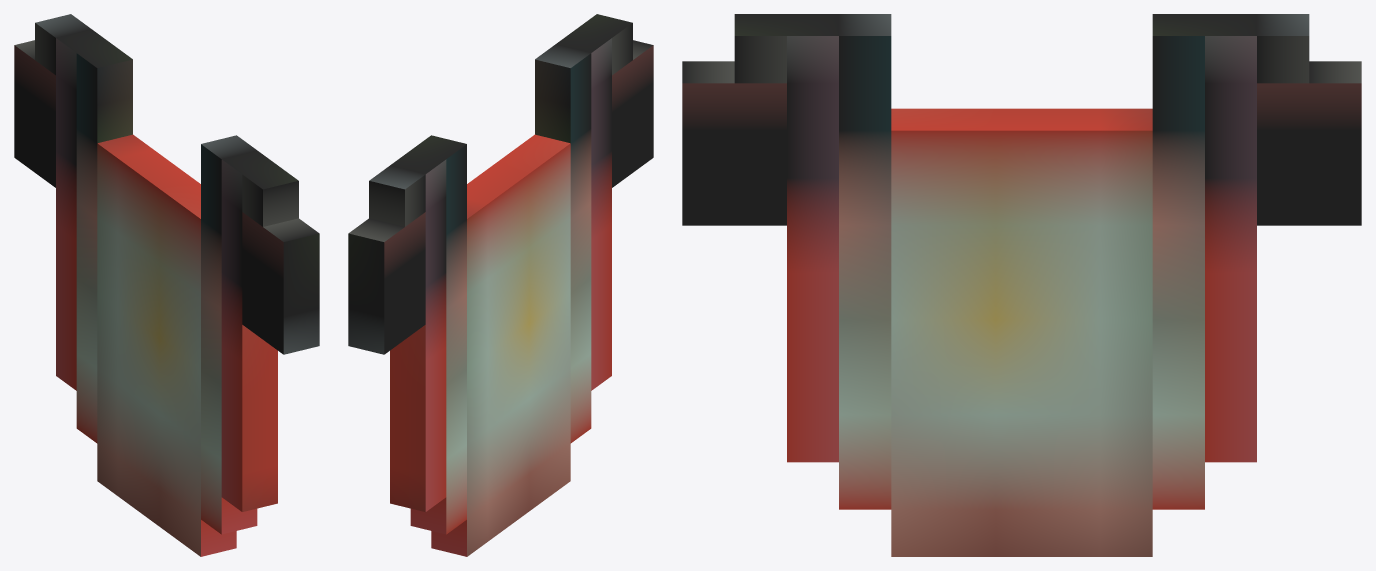
The model's file is ClockMickeyMouse_00.fbx.
3 views of the same model, side by side, from view 1: azimuth 30°, elevation 25°; view 2: azimuth 150°, elevation 25°; view 3: azimuth 270°, elevation 25° (orthographic). The views are drawn at different scales.
Parts seen in each view (by area): view 1: ClockMickeyMouse_00; view 2: ClockMickeyMouse_00; view 3: ClockMickeyMouse_00.
Boxes of the visible parts, x1,y1,x2,y2 form: ClockMickeyMouse_00: (14, 14, 319, 556); ClockMickeyMouse_00: (348, 14, 653, 556); ClockMickeyMouse_00: (682, 14, 1361, 556).
Bounding box in the file's own units: 5 × 65 × 55.
Materials: 1 (1 with a texture image).
